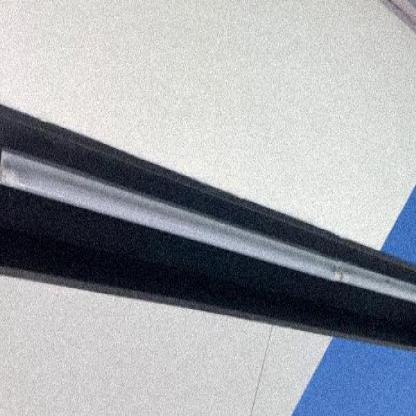light_off: (0, 104, 415, 351)
